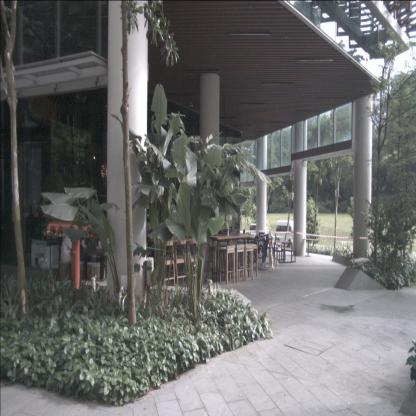human-pedestrian-adult: (61, 230, 75, 282), (76, 228, 89, 270)
vehicle-car: (275, 219, 303, 247), (248, 224, 272, 246)
